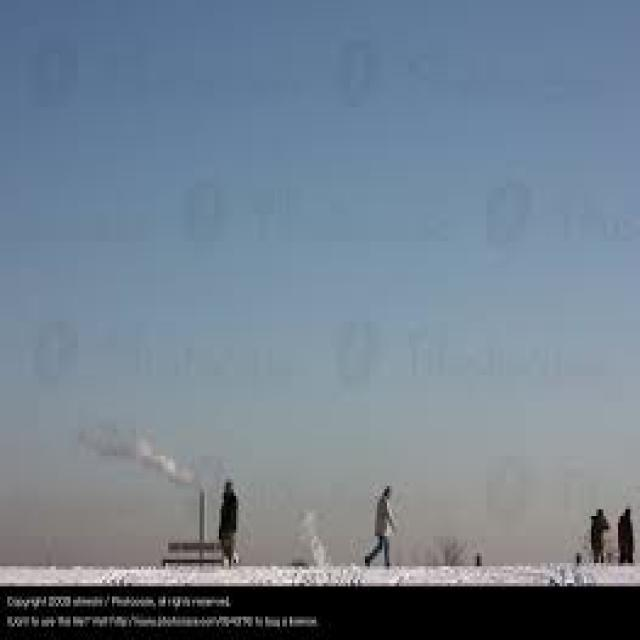Smoke: (73, 406, 195, 496)
